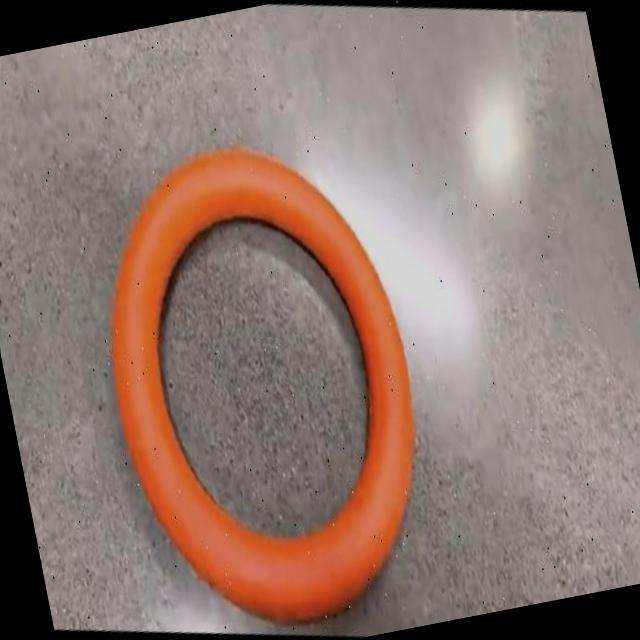note: (111, 152, 414, 618)
